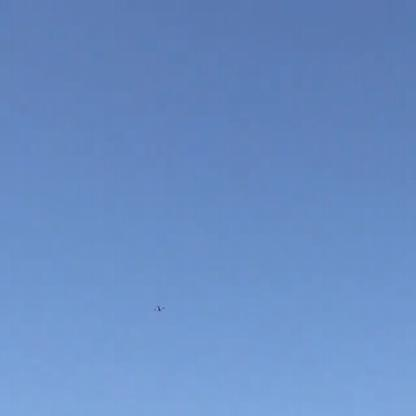CIV_Plane: (154, 303, 164, 310)
